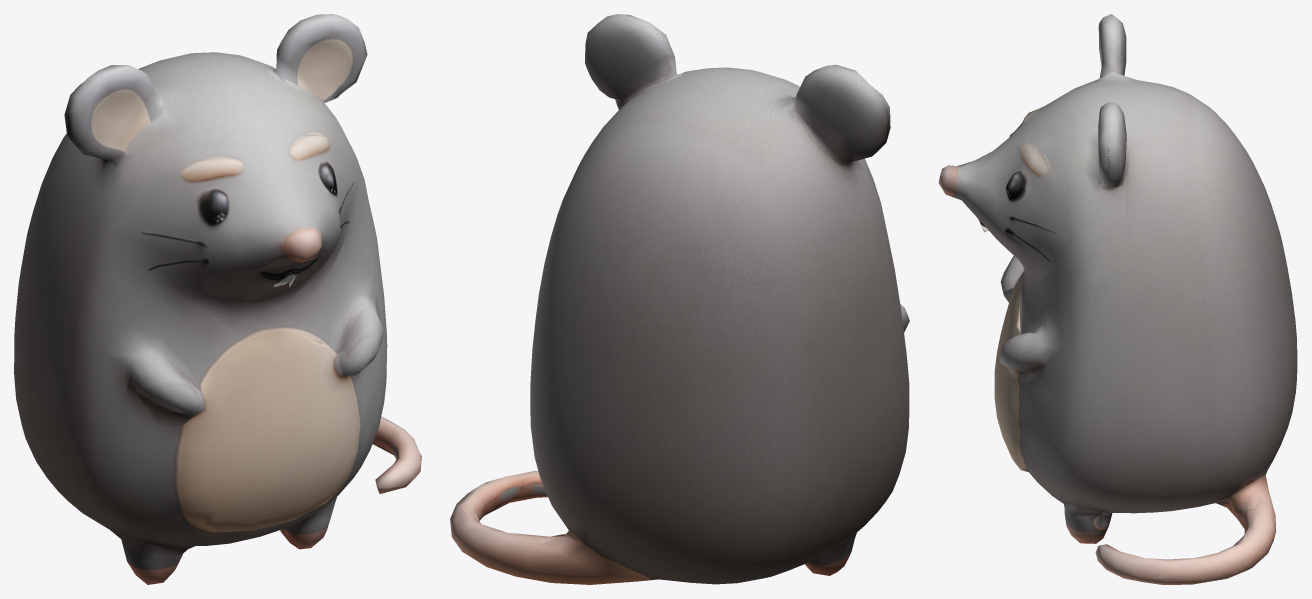
File: mouse.glb
The picture shows the model from 3 angles, left to right: view 1: azimuth 30°, elevation 25°; view 2: azimuth 150°, elevation 25°; view 3: azimuth 270°, elevation 25°; orthographic projection. The views are drawn at different scales.
Visible parts, largest first — view 1: material_0; view 2: material_0; view 3: material_0.
Part boxes in pixels (x1=…): material_0: x1=14, y1=14, x2=421, y2=584; material_0: x1=450, y1=14, x2=909, y2=584; material_0: x1=938, y1=14, x2=1297, y2=584.
Size of the model in its own units: 0.7747 by 0.9914 by 0.7203.
1 material, 1 textured.
